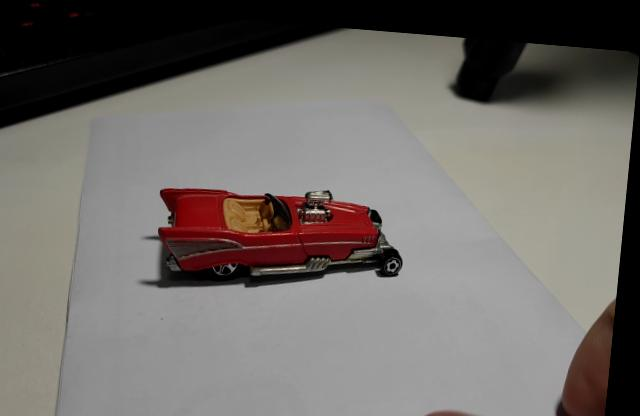03_V8: (154, 185, 407, 283)
